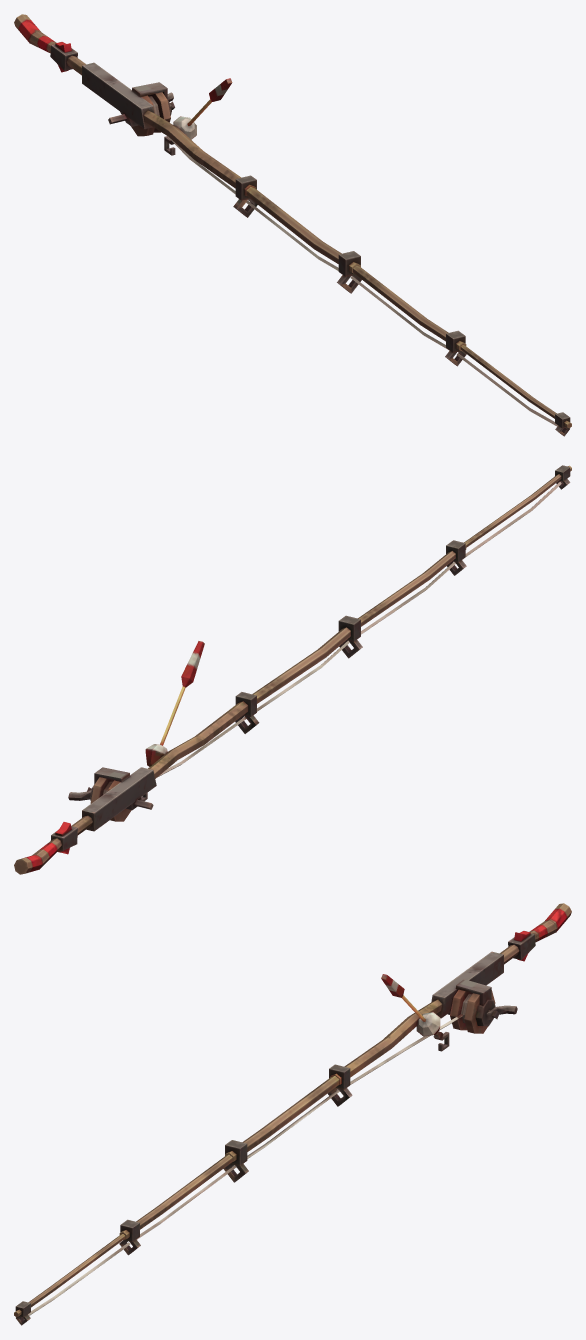
The model's file is item_view_basic_fishing_rod.fbx.
The picture shows the model from 3 angles, top to bottom: view 1: azimuth 30°, elevation 25°; view 2: azimuth 150°, elevation 25°; view 3: azimuth 330°, elevation 25°; orthographic projection.
Parts seen in each view (by area): view 1: FishingRod, FishingReel, Bobber; view 2: FishingRod, Bobber, FishingReel; view 3: FishingRod, FishingReel, Bobber.
Boxes of the visible parts, box(x1,y1,x2,y2) form: FishingRod: box(14, 14, 571, 436); FishingReel: box(108, 92, 174, 136); Bobber: box(173, 78, 232, 139); FishingRod: box(14, 465, 571, 874); Bobber: box(145, 641, 204, 766); FishingReel: box(68, 777, 153, 821); FishingRod: box(14, 903, 571, 1325); FishingReel: box(450, 989, 517, 1033); Bobber: box(381, 974, 440, 1036).
Bounding box in the file's own units: 15.64 × 24.34 × 207.
Materials: 1 (1 with a texture image).
